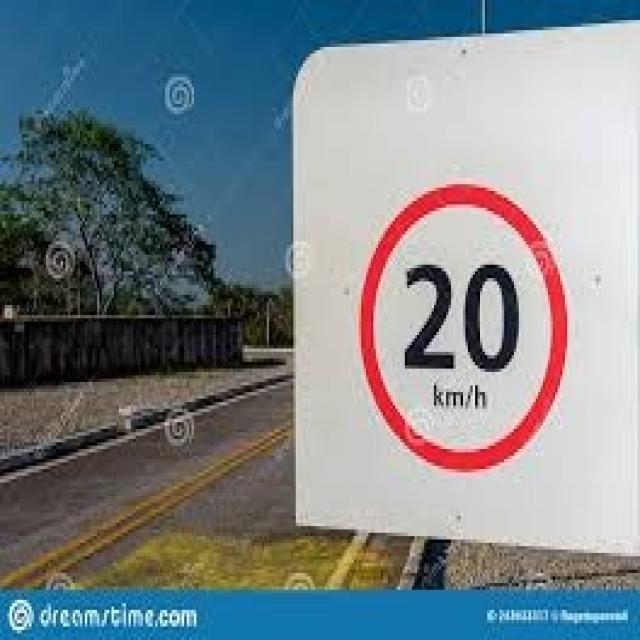speed_limit_20: (355, 178, 578, 474)
